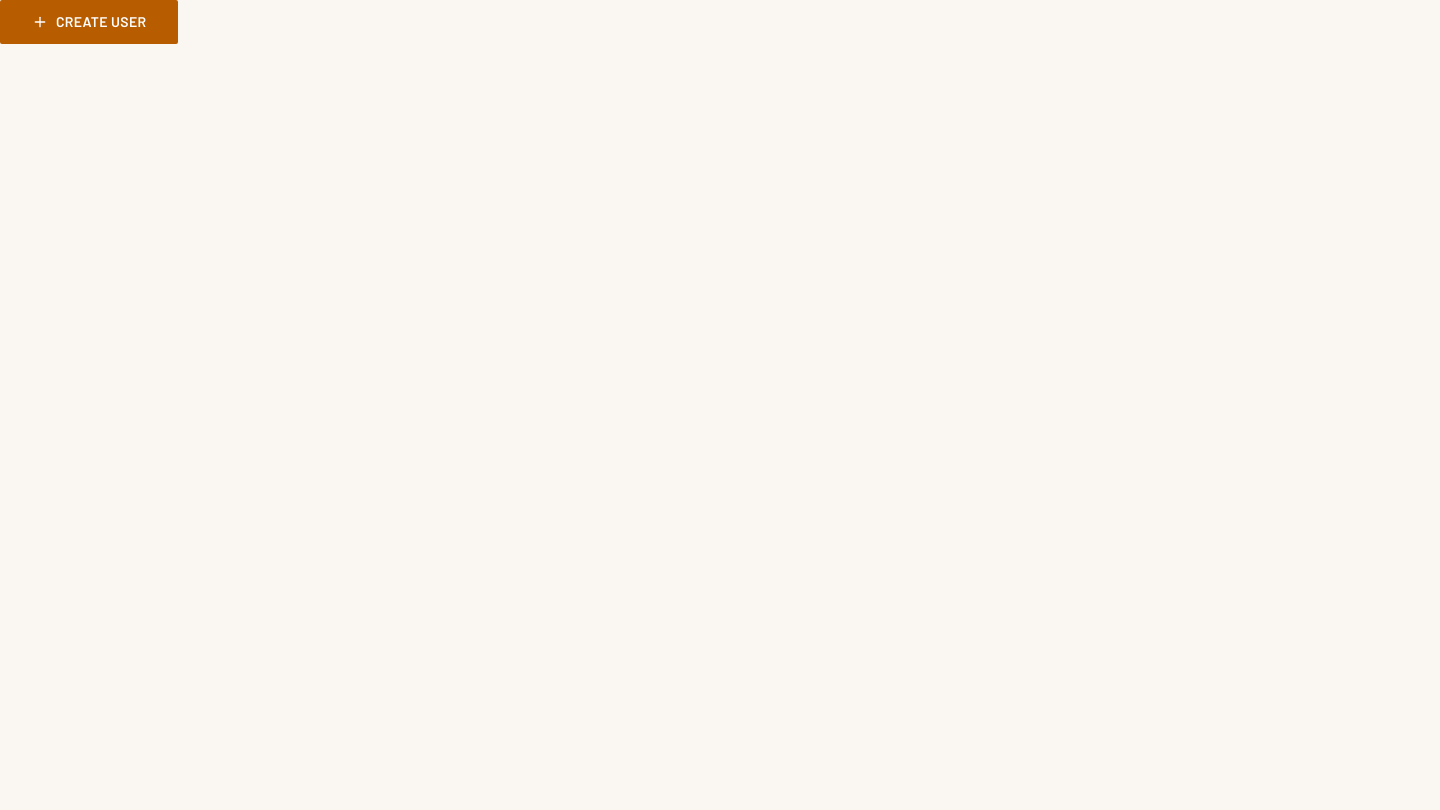
Test: AdminUsersActions › Modal Interaction › opens UserFormModal when Create User button is clicked
Click the button with test id "create-user-button": (89, 22) [0,0,178,44]
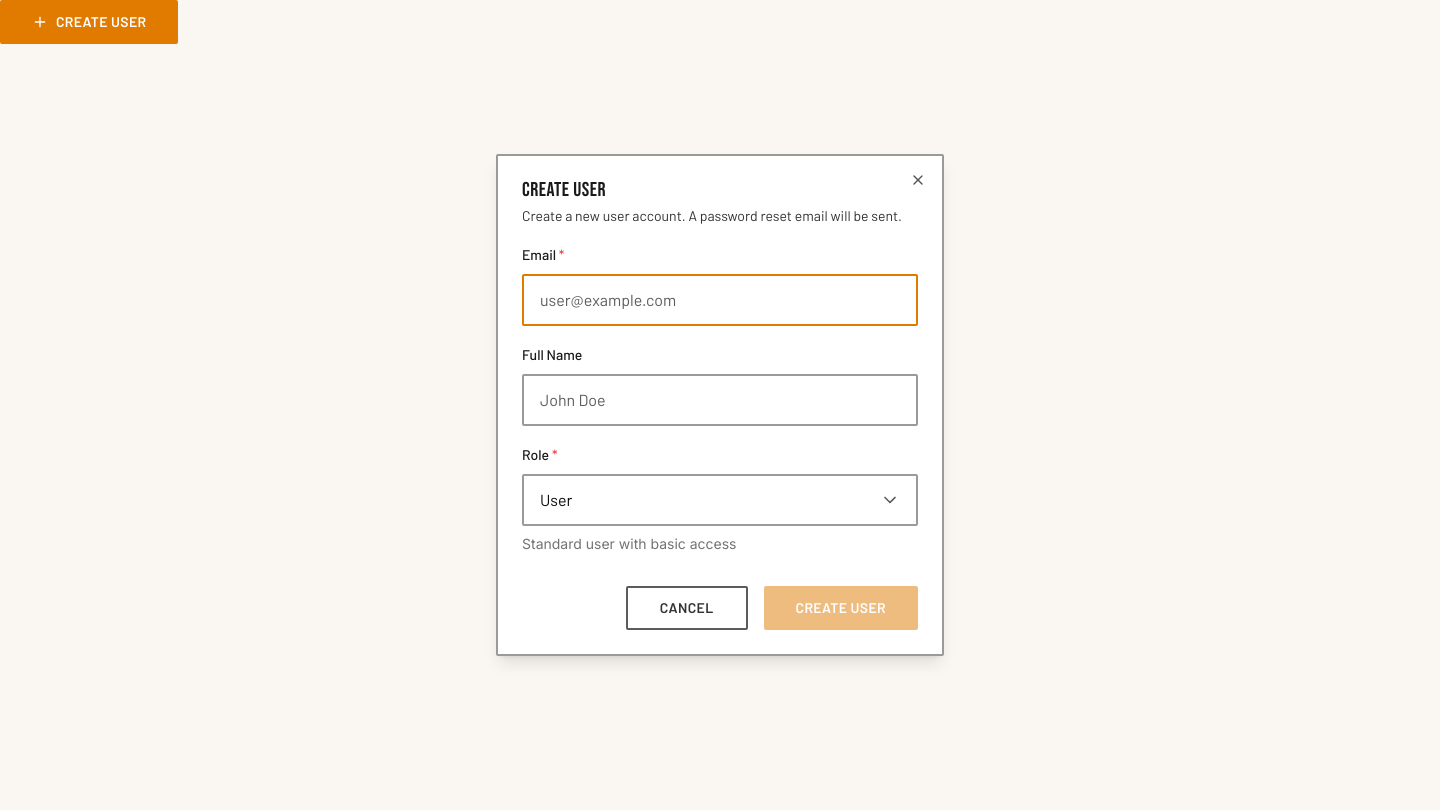
Check: the dialog with test id "user-form-modal" is shown, box [496,154,944,656]
